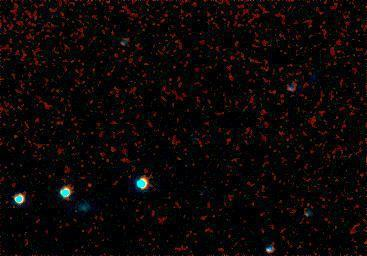star: (75, 173, 105, 203)
